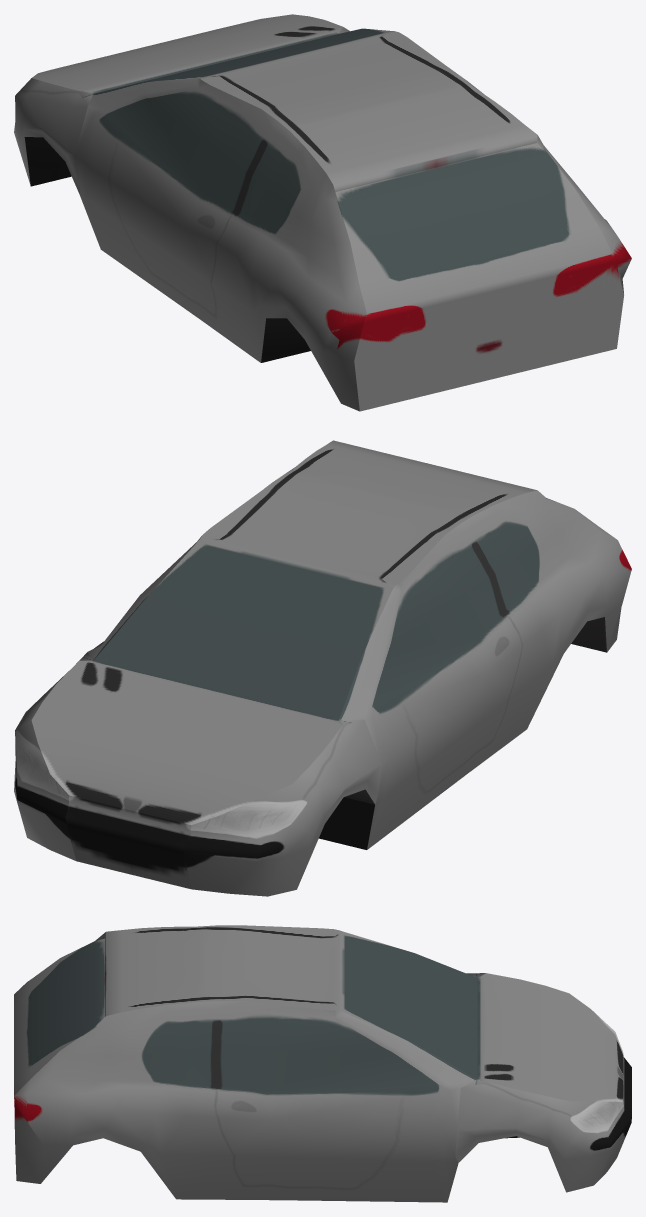
Rendered from lp-citadine-argent.glb.
The picture shows the model from 3 angles, top to bottom: view 1: azimuth 30°, elevation 25°; view 2: azimuth 150°, elevation 25°; view 3: azimuth 270°, elevation 25°; orthographic projection. The views are drawn at different scales.
Visible parts, largest first — view 1: Object_2; view 2: Object_2; view 3: Object_2.
Boxes of the visible parts, <box> form: Object_2: <box>14,14,631,411</box>; Object_2: <box>14,440,631,896</box>; Object_2: <box>14,925,631,1202</box>.
Bounding box in the file's own units: 2.36 × 1.58 × 4.81.
1 material, 1 textured.
